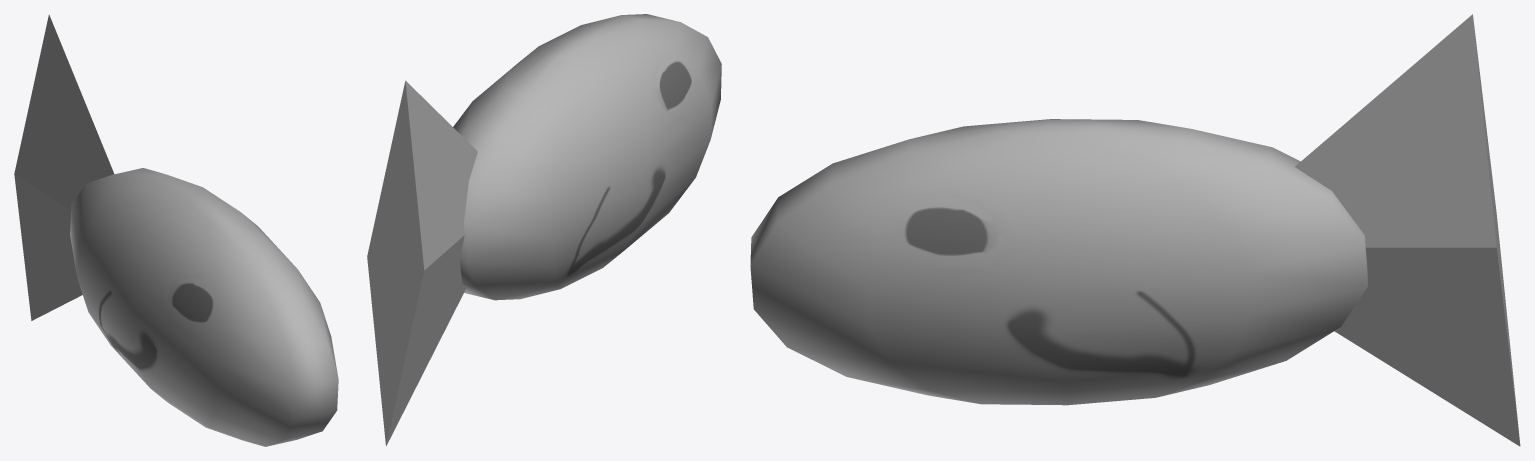
The model's file is Fish2.fbx.
3 views of the same model, side by side, from view 1: azimuth 30°, elevation 25°; view 2: azimuth 150°, elevation 25°; view 3: azimuth 270°, elevation 25° (orthographic). The views are drawn at different scales.
Parts seen in each view (by area): view 1: Fish1; view 2: Fish1; view 3: Fish1.
Part boxes in pixels (bbox=[...]): Fish1: bbox=[14, 14, 338, 446]; Fish1: bbox=[367, 14, 721, 446]; Fish1: bbox=[750, 14, 1520, 446].
Bounding box in the file's own units: 129 × 282 × 455.
